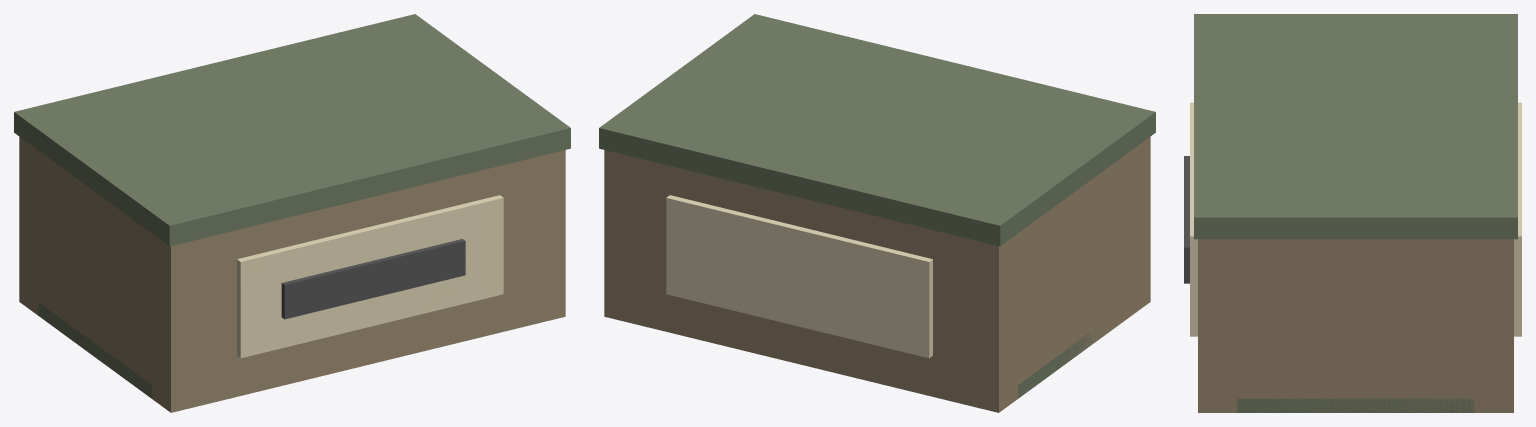
Rendered from AmmoBox.fbx.
3 renders of one model, left to right at view 1: azimuth 30°, elevation 25°; view 2: azimuth 150°, elevation 25°; view 3: azimuth 270°, elevation 25°, orthographic. The views are drawn at different scales.
Parts seen in each view (by area): view 1: AmmoBox; view 2: AmmoBox; view 3: AmmoBox.
Boxes of the visible parts, x1,y1,x2,y2 form: AmmoBox: [14, 14, 570, 412]; AmmoBox: [599, 14, 1155, 412]; AmmoBox: [1184, 14, 1521, 412].
Size of the model in its own units: 12.2 by 5.5 by 8.55.
